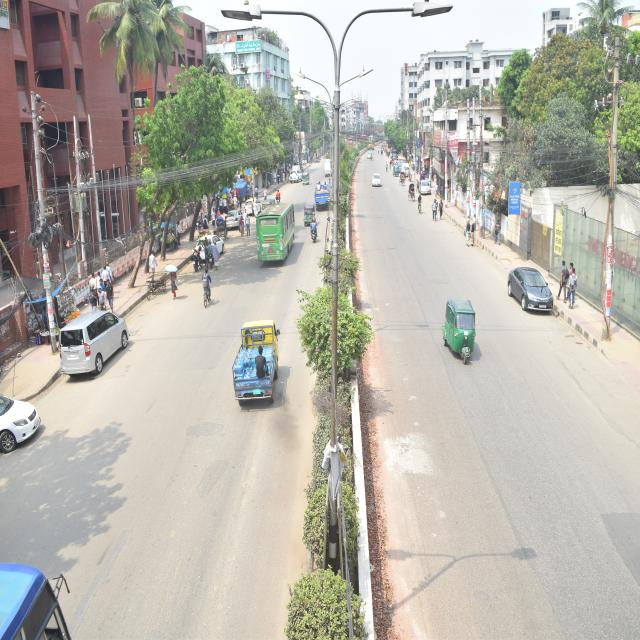bus: (255, 199, 297, 270)
car: (59, 303, 132, 384), (504, 260, 559, 319), (0, 390, 41, 457), (243, 195, 260, 218), (418, 173, 432, 199), (228, 209, 242, 232), (372, 169, 382, 196)
motorbike: (310, 220, 318, 246)
pickup-van: (231, 318, 282, 416), (313, 177, 335, 211)
